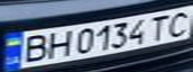0: (72, 25, 96, 54)
1: (93, 21, 115, 52)
3: (109, 19, 133, 48)
4: (127, 16, 151, 45)
B: (15, 31, 51, 64)
C: (163, 8, 193, 37)
H: (42, 29, 72, 58)
T: (145, 11, 175, 40)
